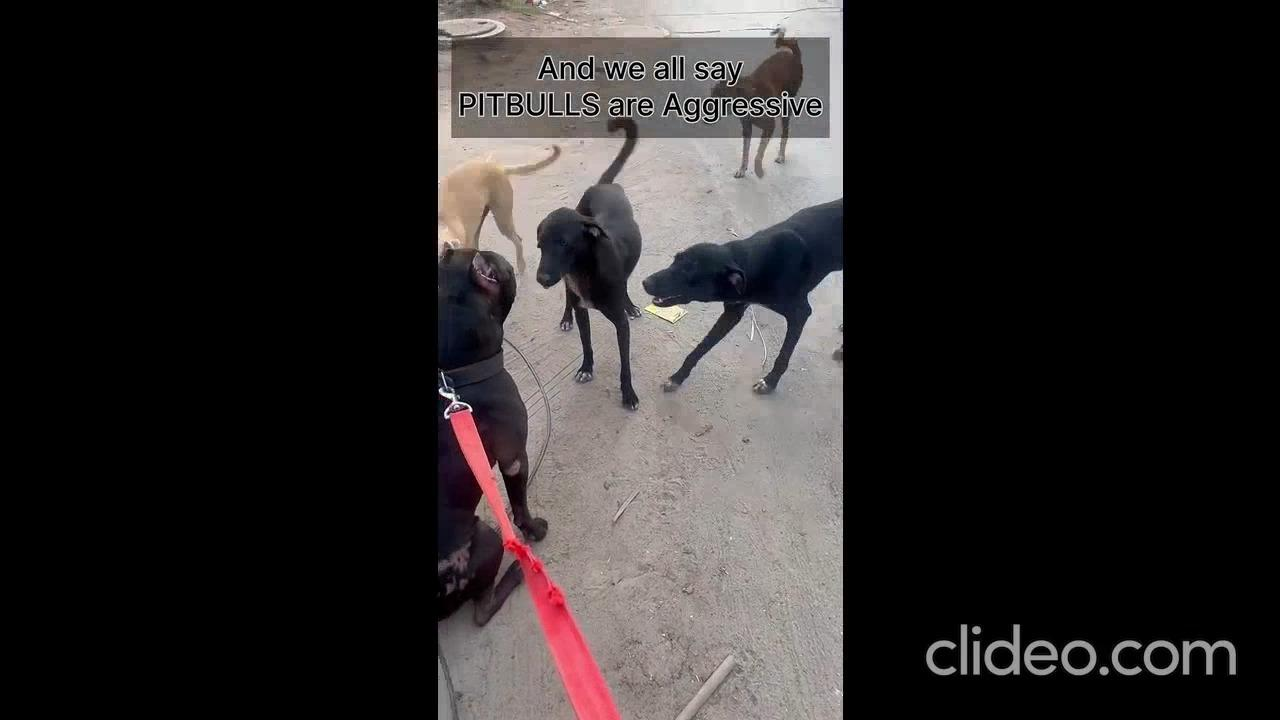dog: (644, 190, 845, 416), (516, 114, 650, 419), (431, 138, 561, 251)
